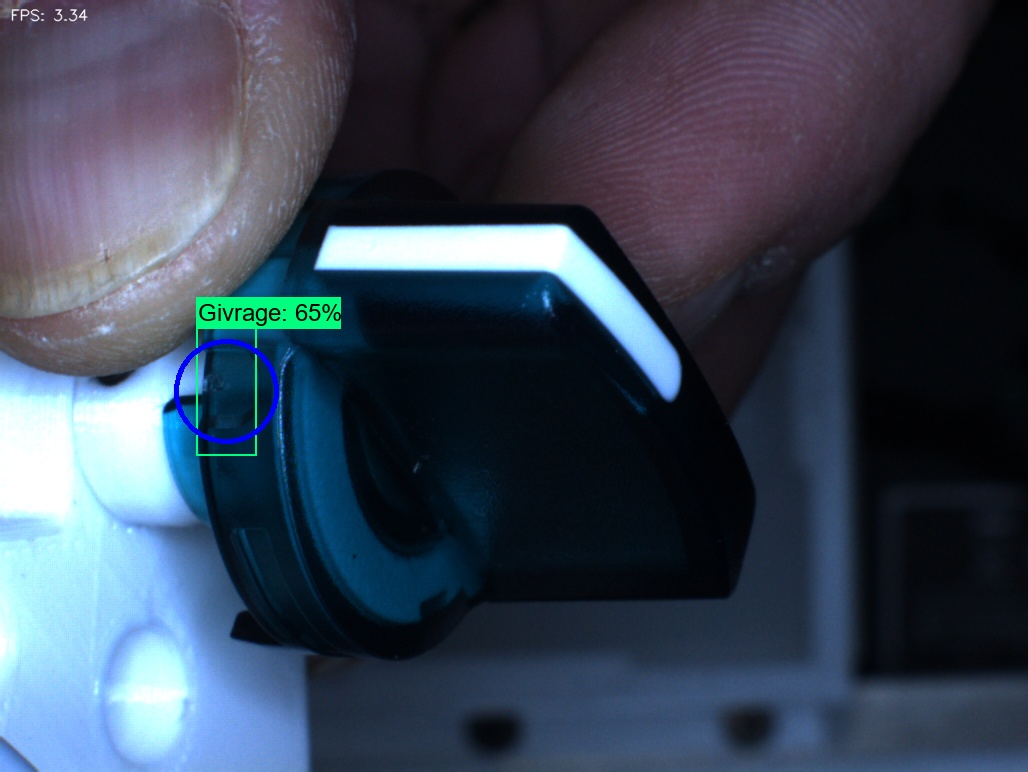PointNoir: (317, 524, 399, 593)
